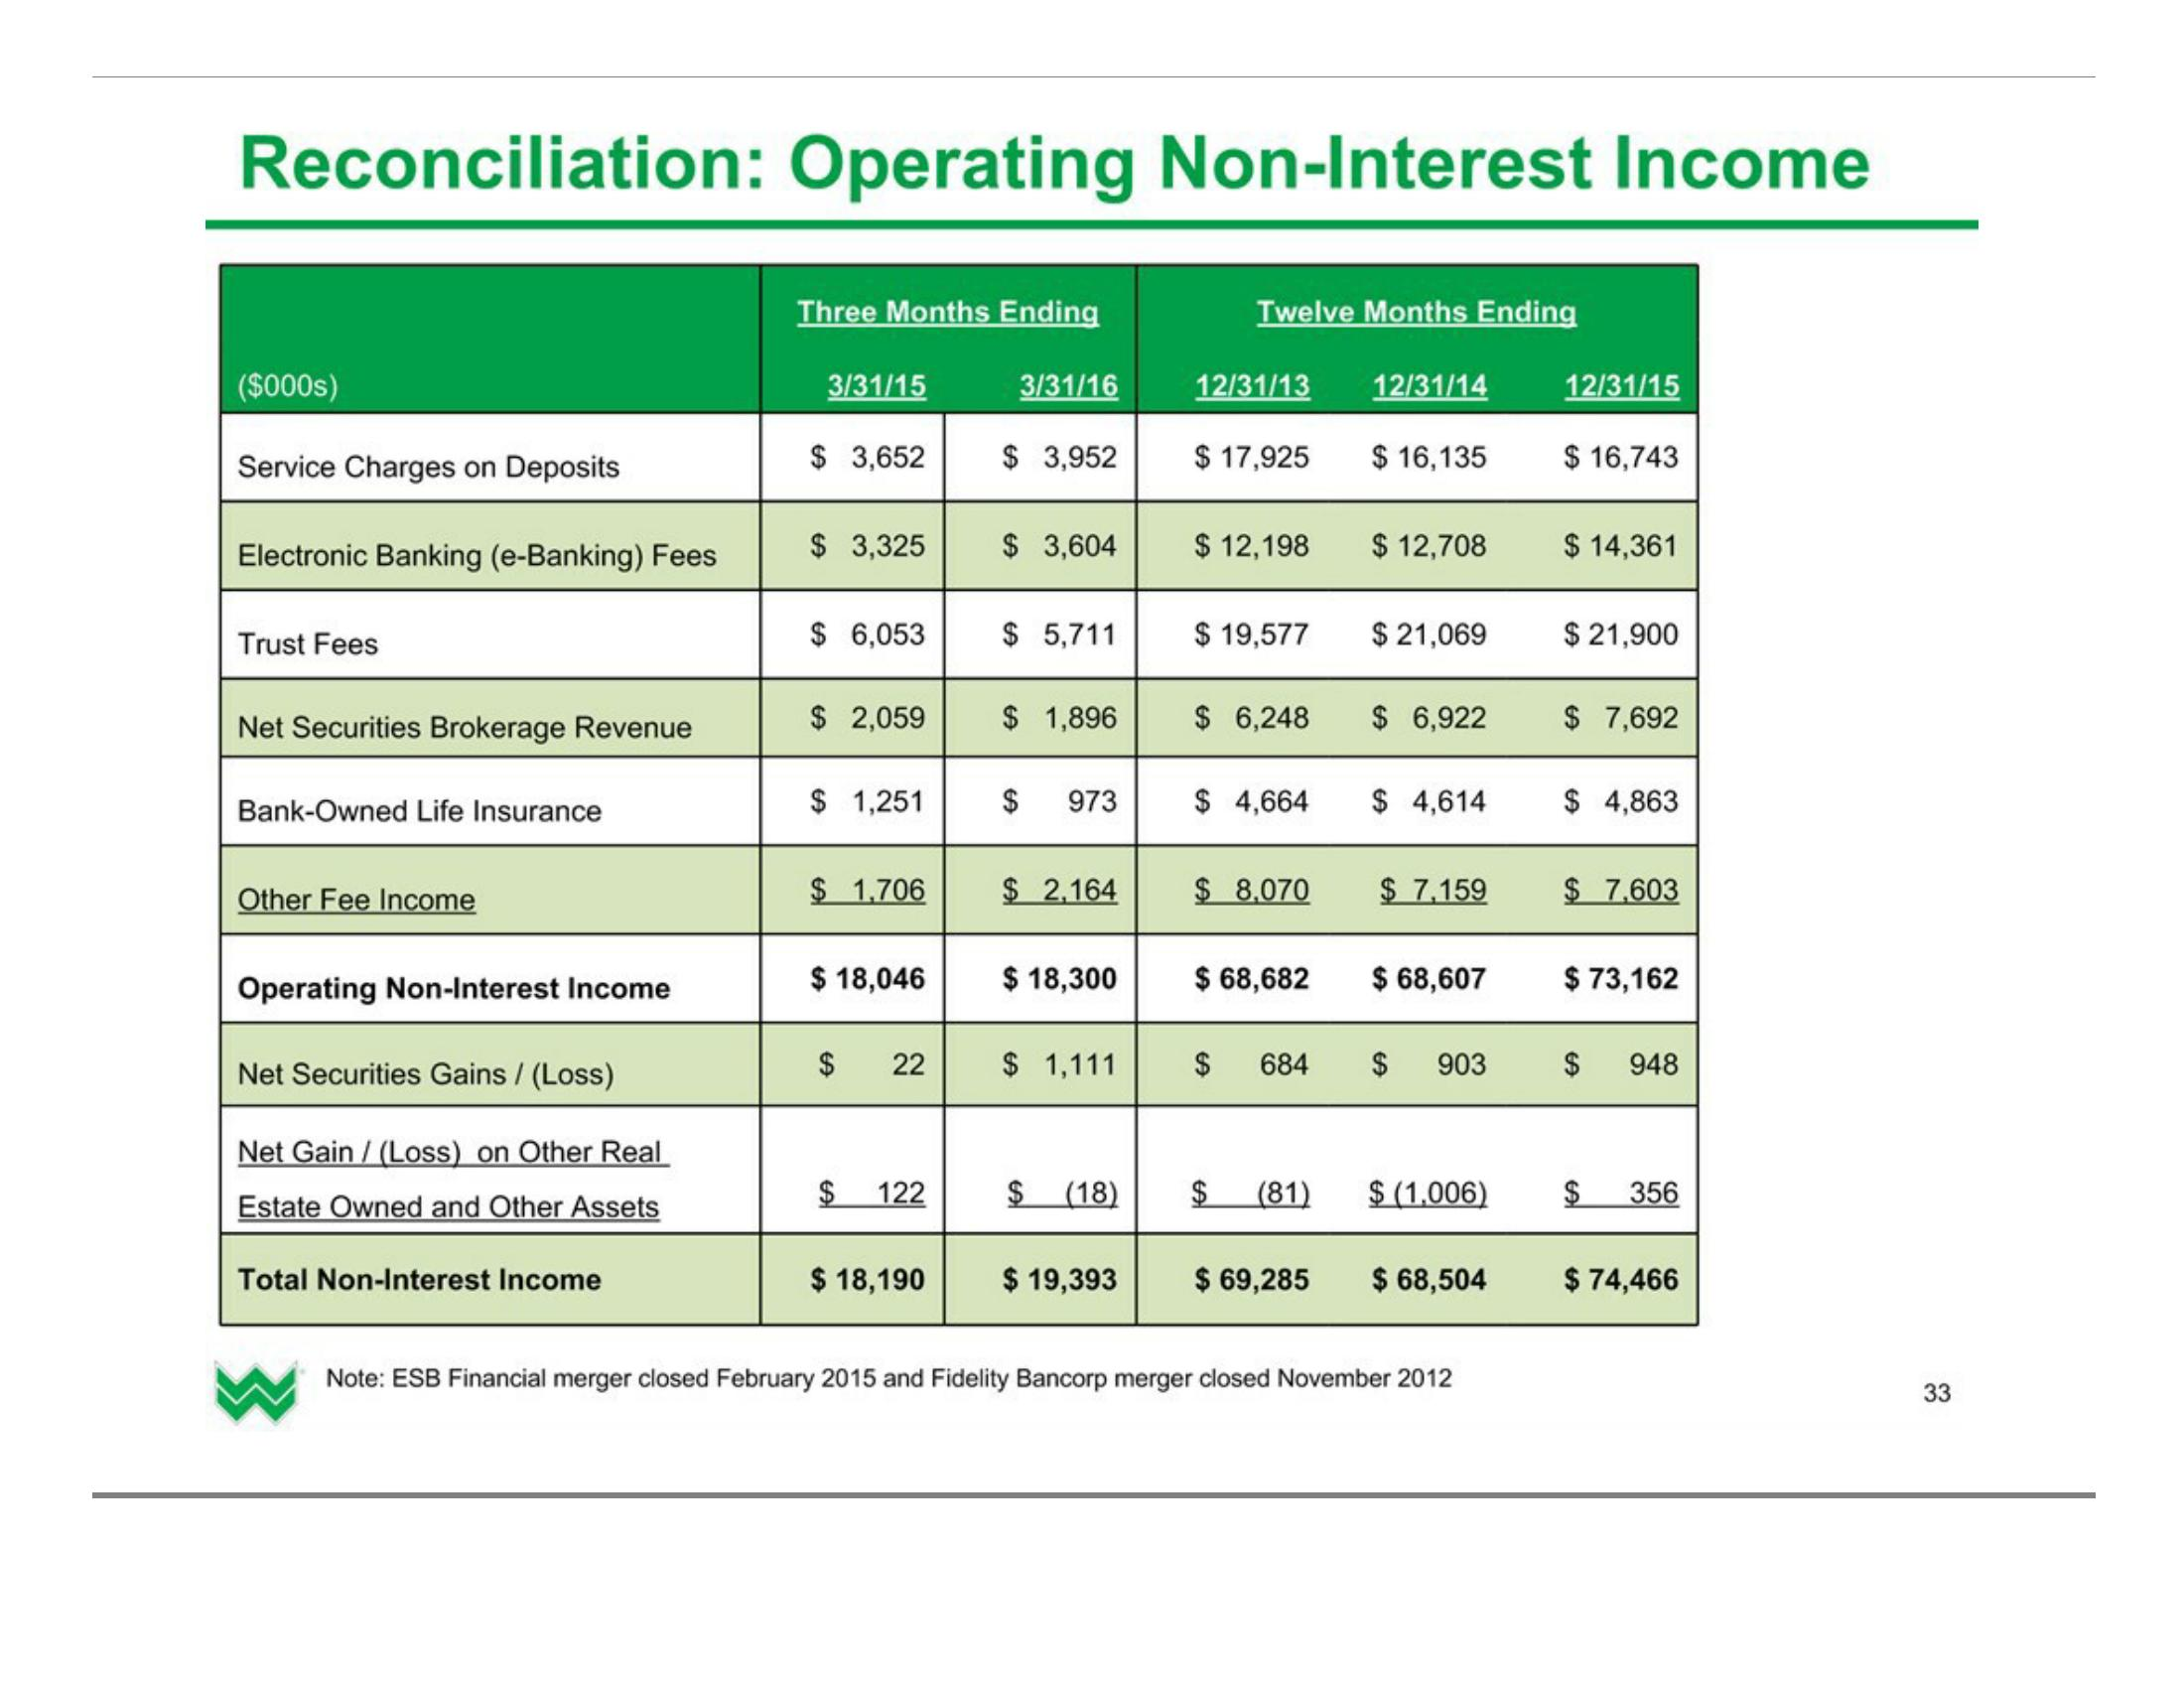table: (211, 259, 1707, 1337)
